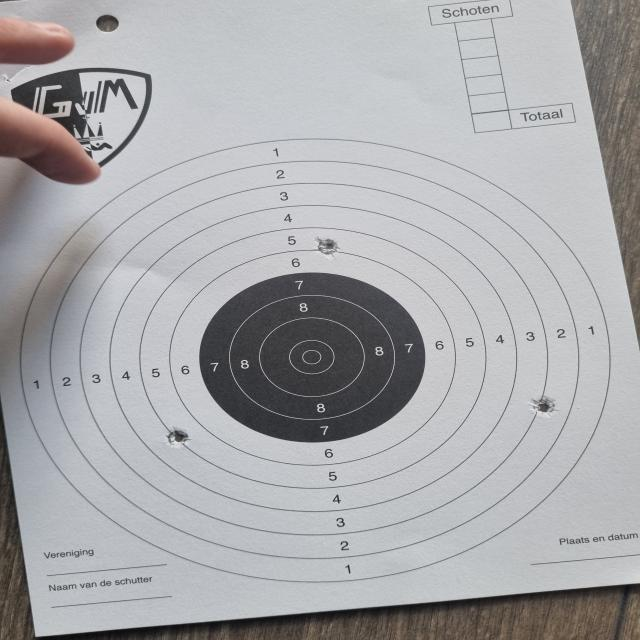3: (532, 397, 558, 415)
5: (167, 430, 192, 446)
6: (312, 239, 340, 258)
Target: (19, 138, 613, 583)
black_contour: (200, 272, 426, 444)
